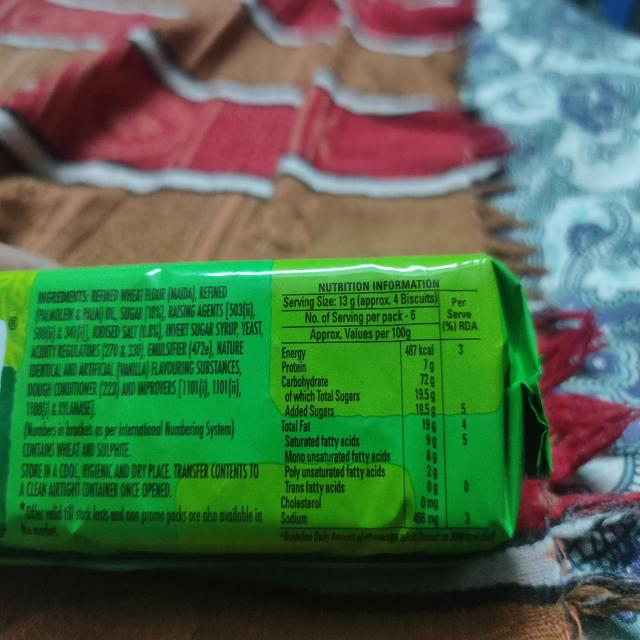50 50 biscuit: (0, 264, 550, 556)
